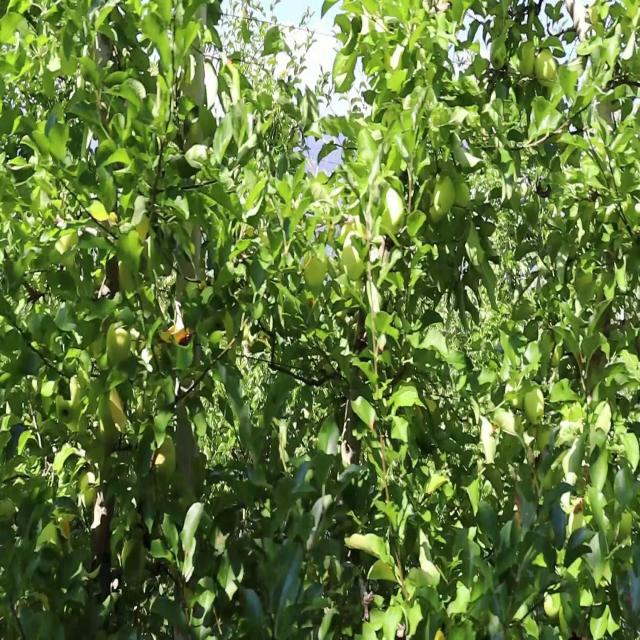apple: (380, 184, 406, 233), (100, 391, 127, 437), (108, 327, 132, 364), (160, 319, 190, 348), (536, 49, 557, 85), (520, 42, 536, 78), (528, 391, 544, 425), (488, 419, 499, 436), (64, 519, 71, 539)
